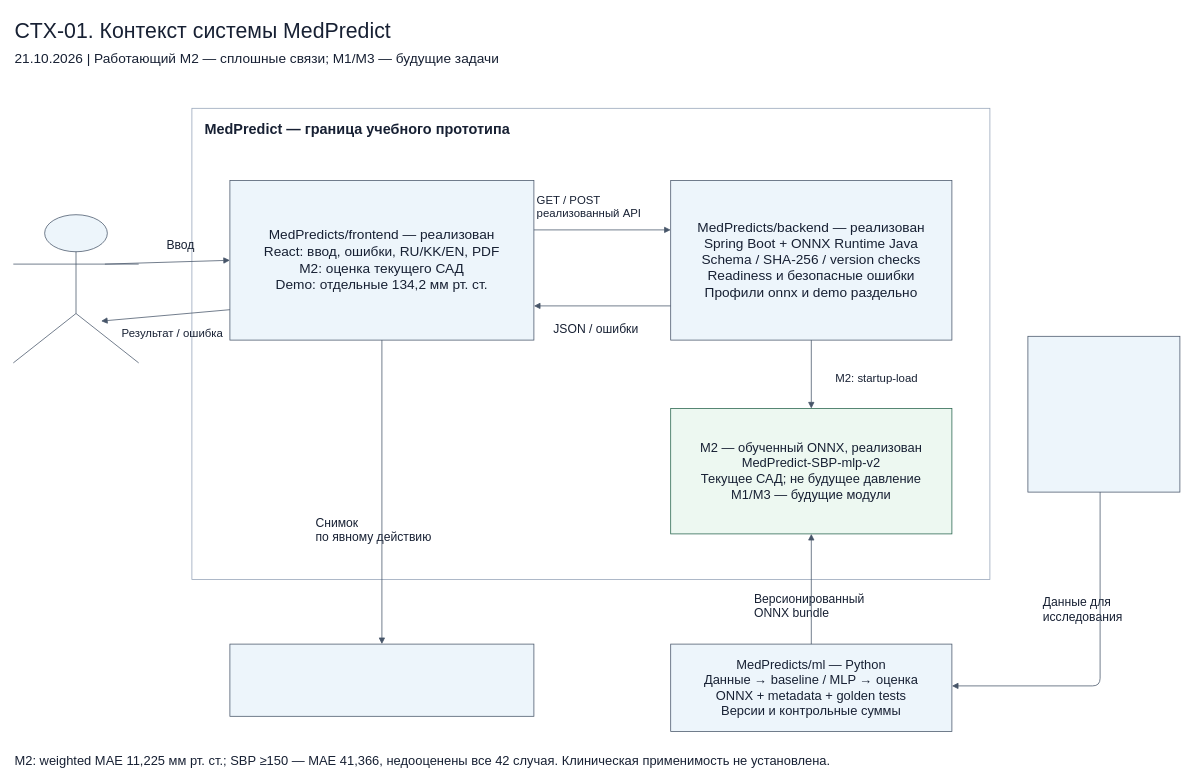
Image size: 1197x783. Some labels were removed from this diagram. Each missing label, with the centre of its shape:
NHANES 2017–March 2020 Официальные public-use данные Обучение вне UI: the point at 1103,414
PDF на устройстве пользователя Экспорт существующего результата: the point at 381,679
Участник демонстрации: the point at 76,288
